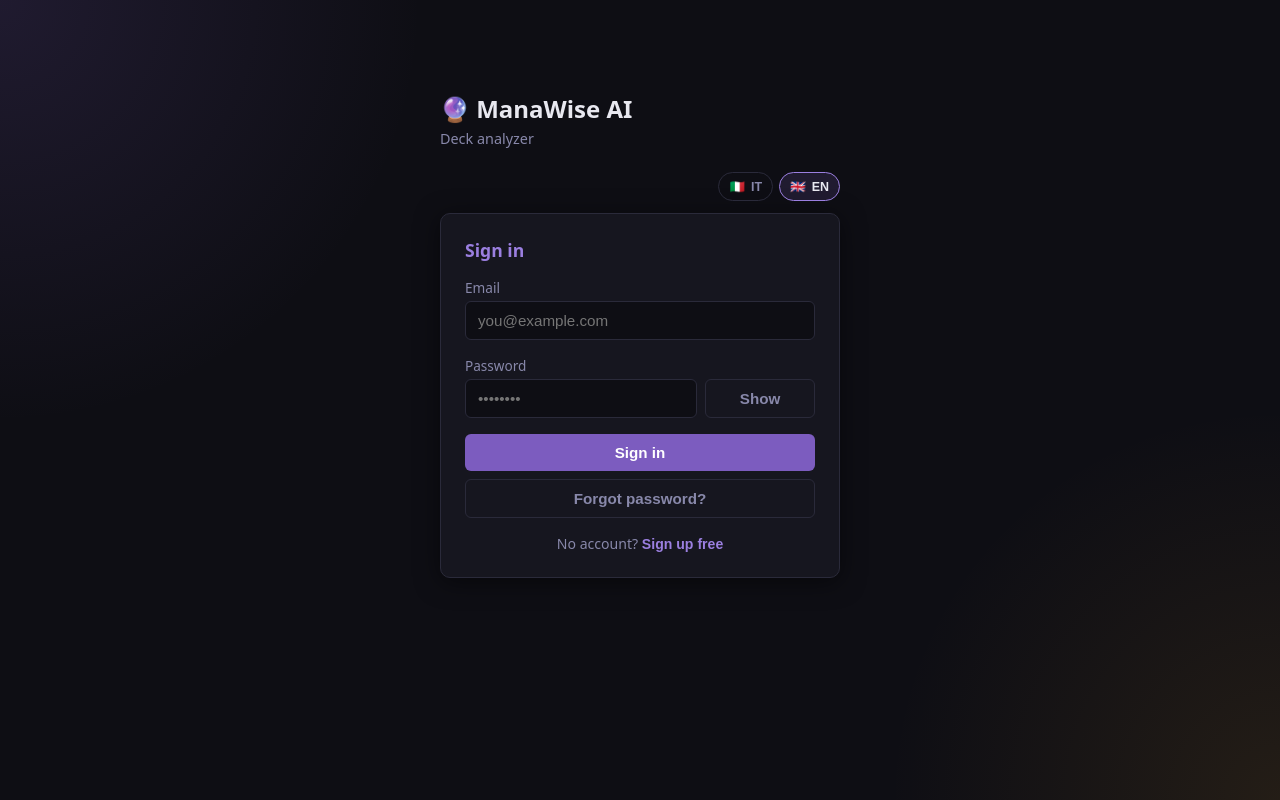
Test: Auth reset flow › requests reset link from forgot-password mode
Click the button "Forgot password?". click: (640, 498)
box: [465,479,815,518]
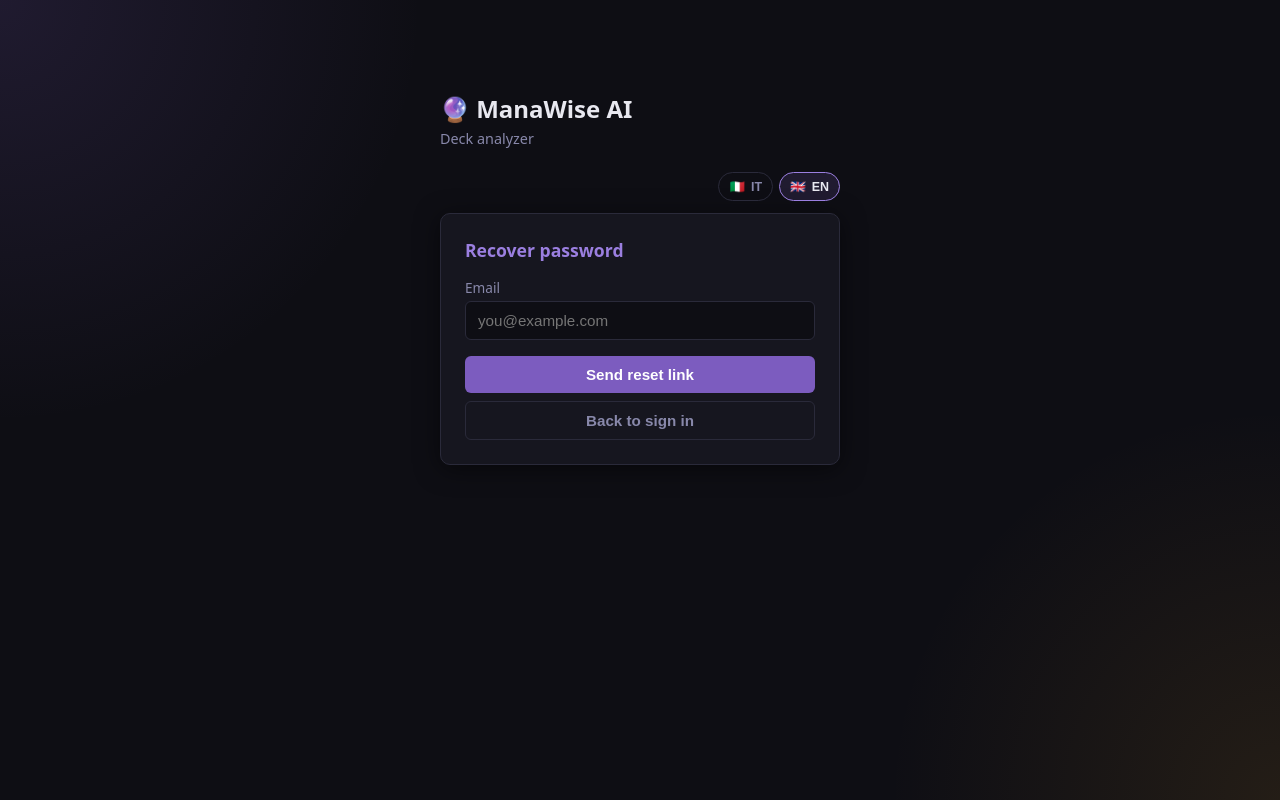
Type "user@example.com" into the field with placeholder "you@example.com". click: (640, 320)
box: [465,301,815,340]
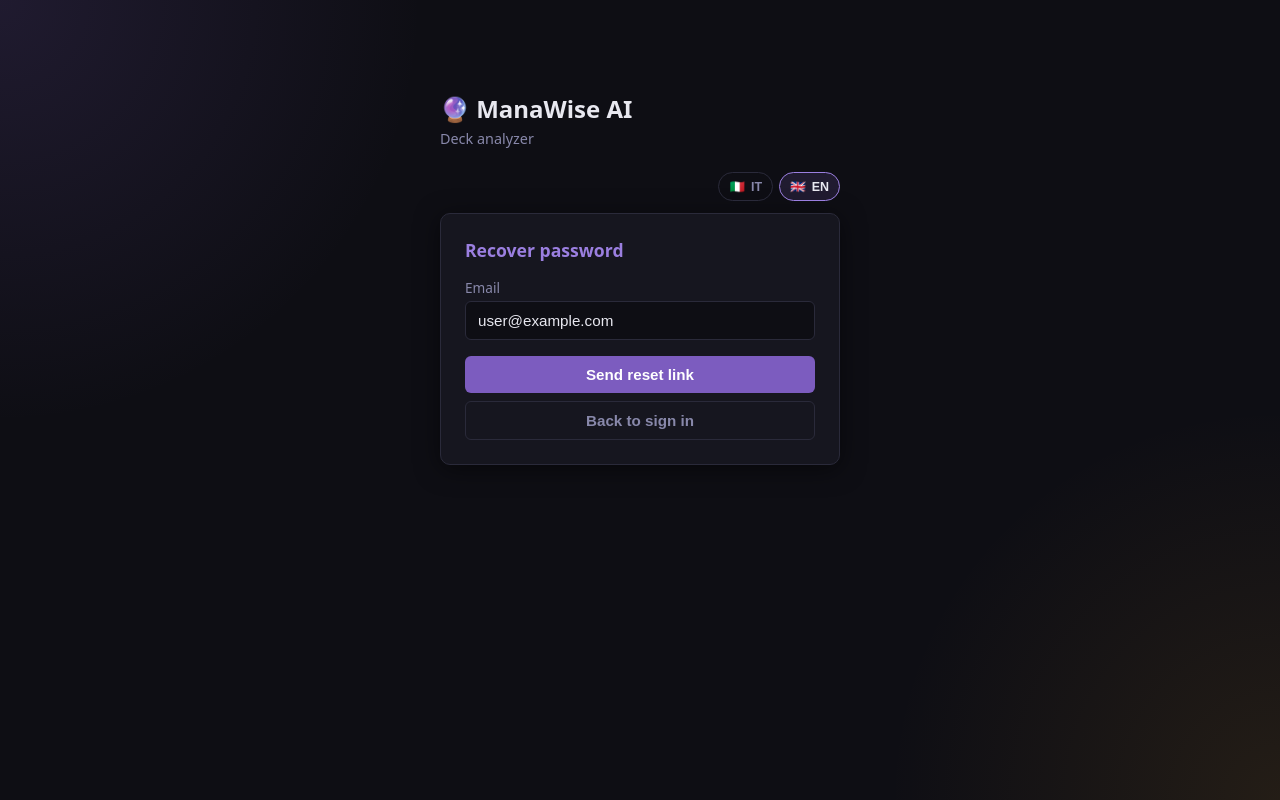
Click the button "Send reset link". click: (640, 374)
box: [465,356,815,393]
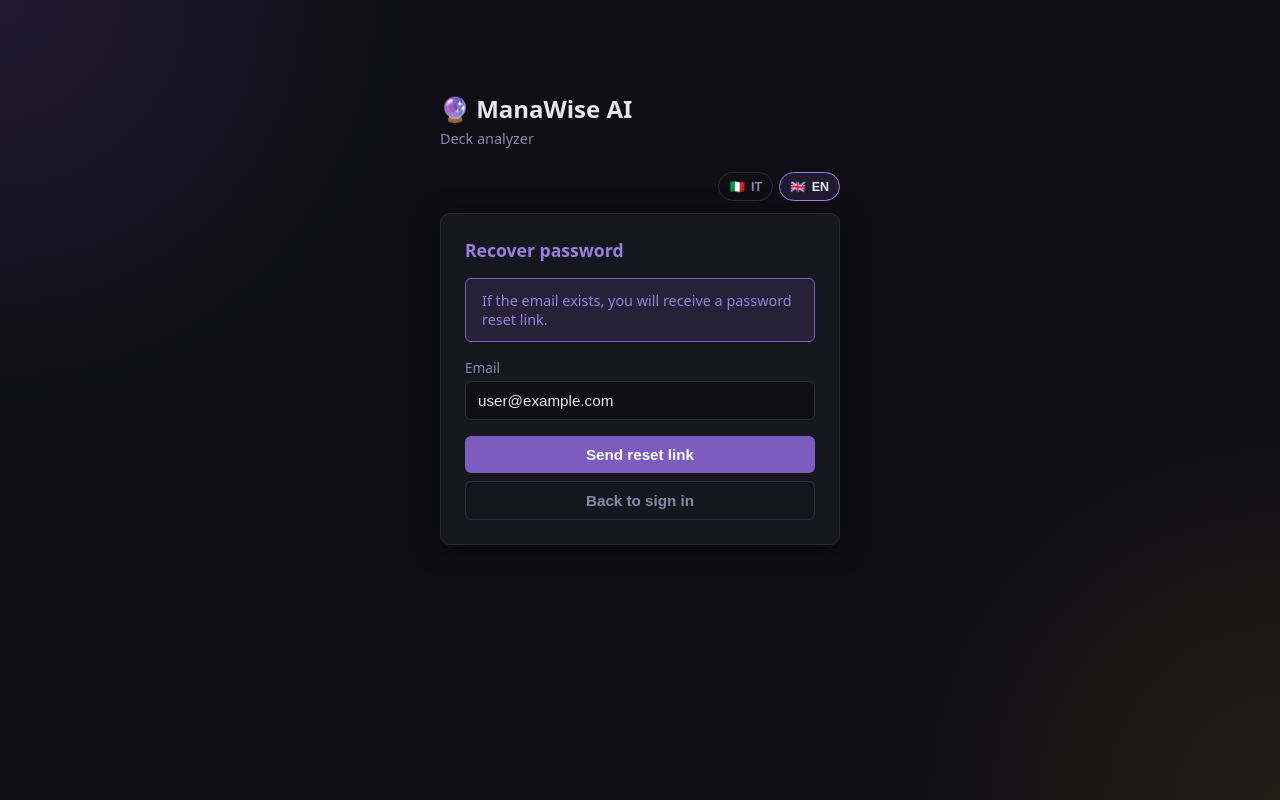
Expected: the text "If the email exists, you will receive a password reset link." is shown, [465,278,815,342]
